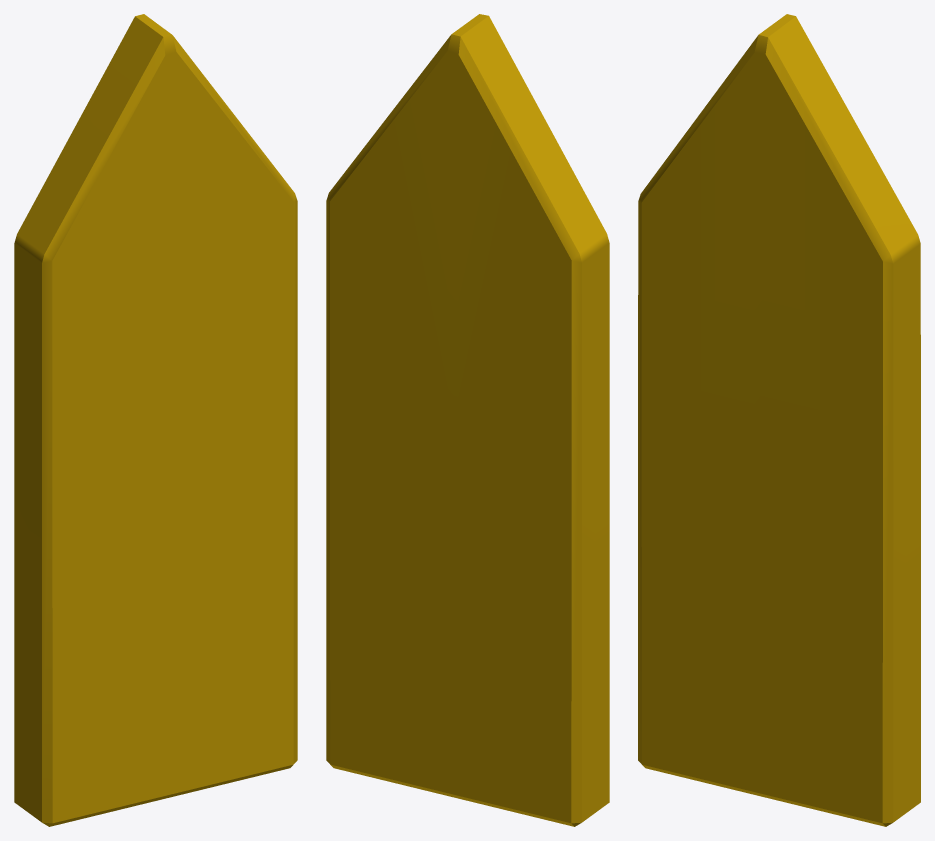
The model's file is Fence Singular.fbx.
3 views of the same model, side by side, from view 1: azimuth 30°, elevation 25°; view 2: azimuth 150°, elevation 25°; view 3: azimuth 330°, elevation 25° (orthographic).
Parts seen in each view (by area): view 1: pCube139; view 2: pCube139; view 3: pCube139.
Part boxes in pixels (x1=…): pCube139: x1=14, y1=14, x2=297, y2=826; pCube139: x1=326, y1=14, x2=609, y2=826; pCube139: x1=638, y1=14, x2=920, y2=826.
Size of the model in its own units: 0.2605 by 0.7427 by 0.0606.
